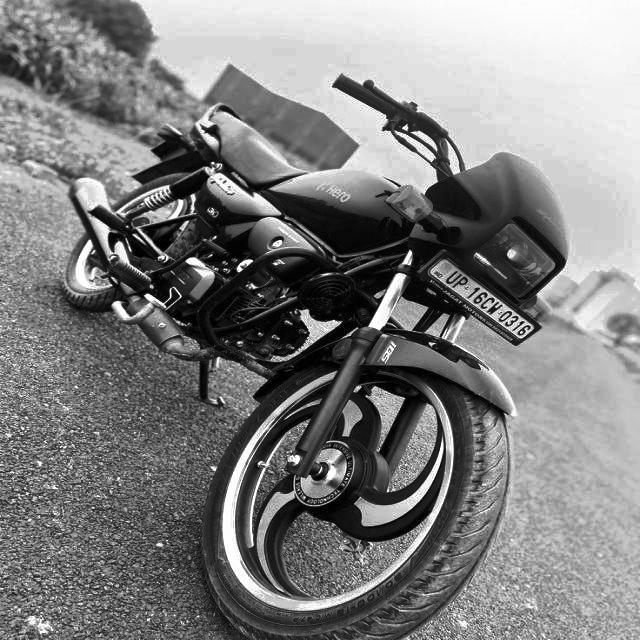Bike: (44, 68, 576, 640)
